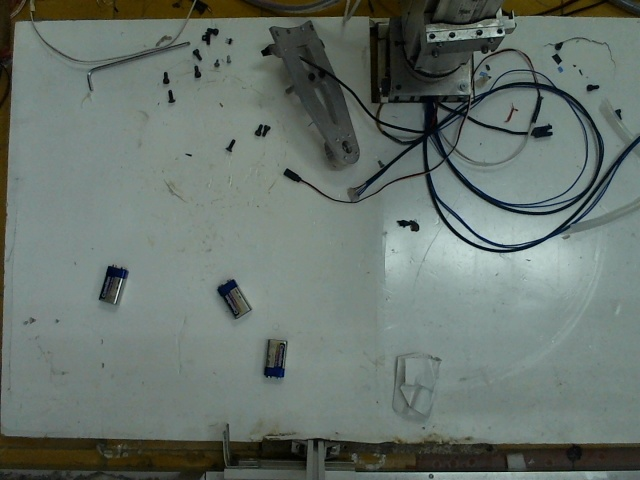battery: (213, 277, 254, 322), (255, 336, 292, 376), (98, 263, 125, 310)
